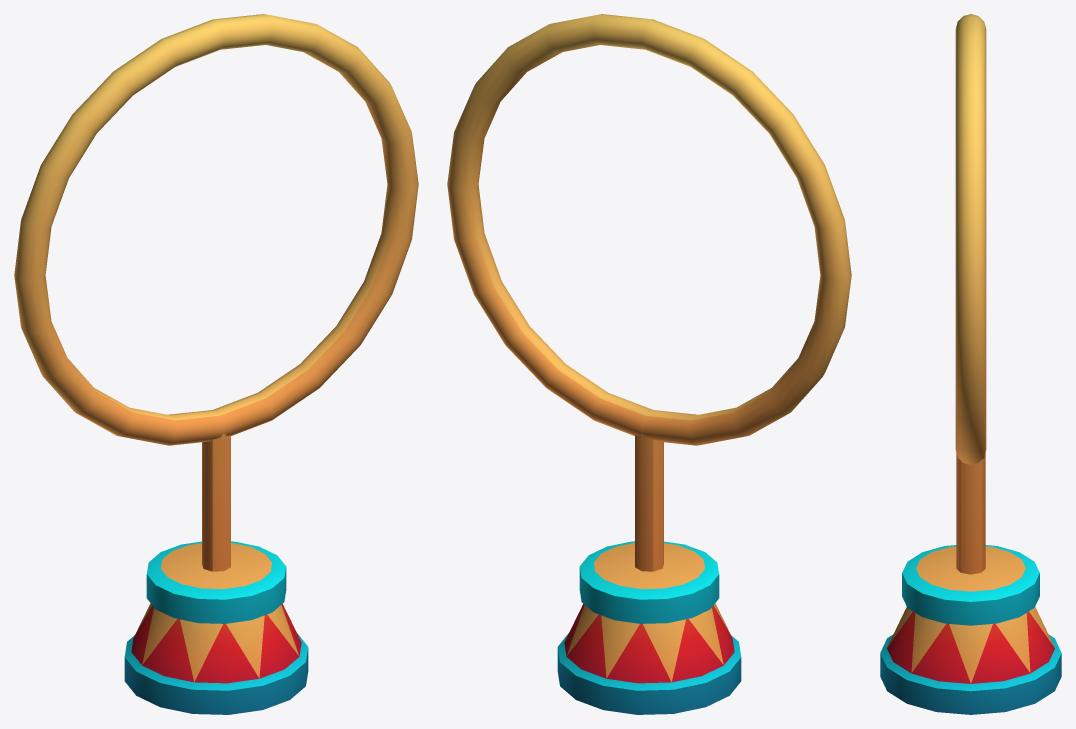
The model's file is circus_hoop.obj.
The picture shows the model from 3 angles, left to right: view 1: azimuth 30°, elevation 25°; view 2: azimuth 150°, elevation 25°; view 3: azimuth 270°, elevation 25°; orthographic projection. The views are drawn at different scales.
Parts seen in each view (by area): view 1: circus_hoop; view 2: circus_hoop; view 3: circus_hoop.
Part boxes in pixels (box(x1,y1,x2,y2)): circus_hoop: box(14, 14, 418, 714); circus_hoop: box(447, 14, 851, 714); circus_hoop: box(880, 14, 1061, 714).
Bounding box in the file's own units: 1.87 × 2.94 × 0.75.
Materials: 1 (1 with a texture image).
